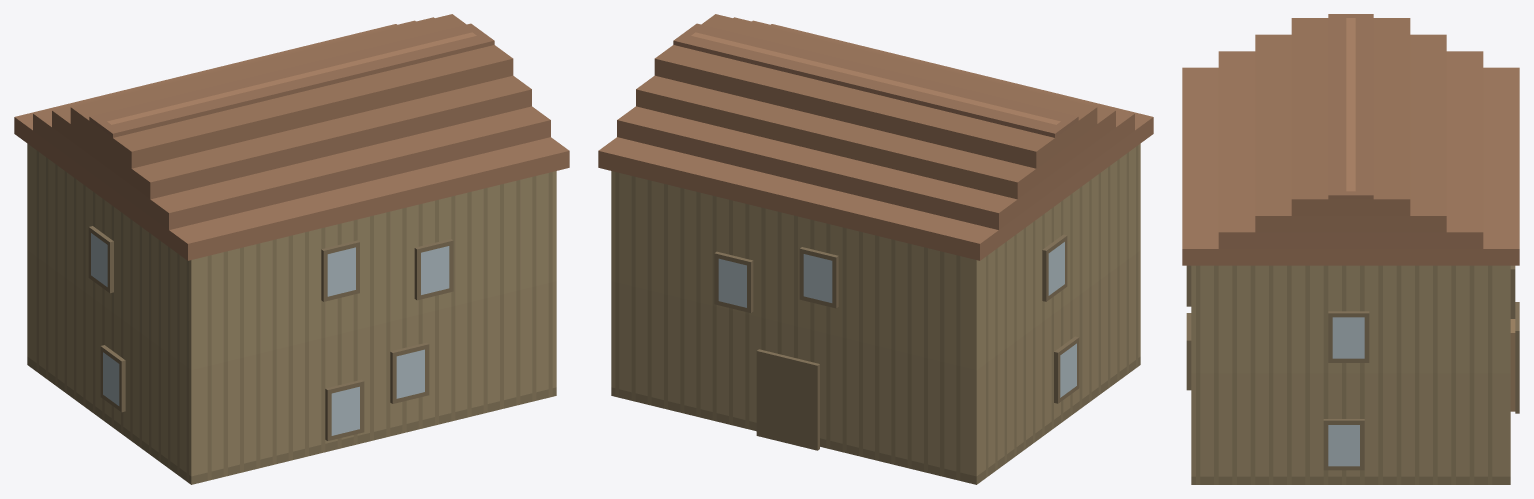
File: tienda_04.glb
3 renders of one model, left to right at view 1: azimuth 30°, elevation 25°; view 2: azimuth 150°, elevation 25°; view 3: azimuth 270°, elevation 25°, orthographic. The views are drawn at different scales.
Parts seen in each view (by area): view 1: tienda_04; view 2: tienda_04; view 3: tienda_04.
Boxes of the visible parts, <box> form: tienda_04: <box>14,14,569,484</box>; tienda_04: <box>598,14,1153,484</box>; tienda_04: <box>1182,14,1519,484</box>.
Size of the model in its own units: 9.4 by 7.1 by 7.4.
